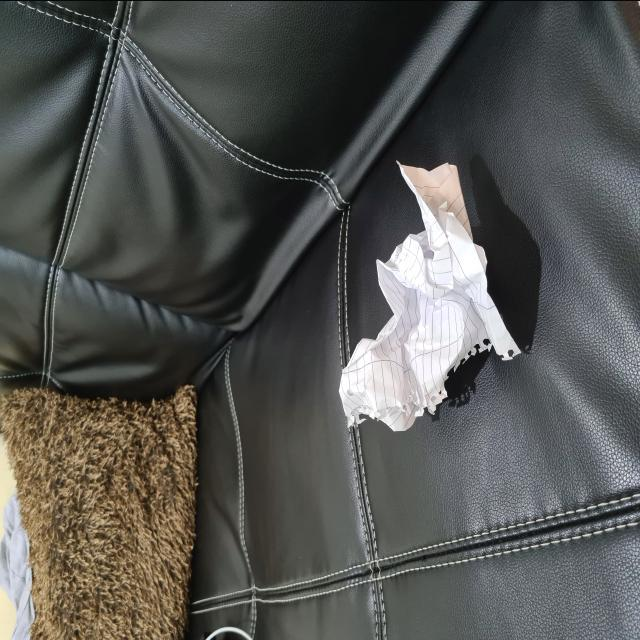Paper: (321, 156, 532, 435)
